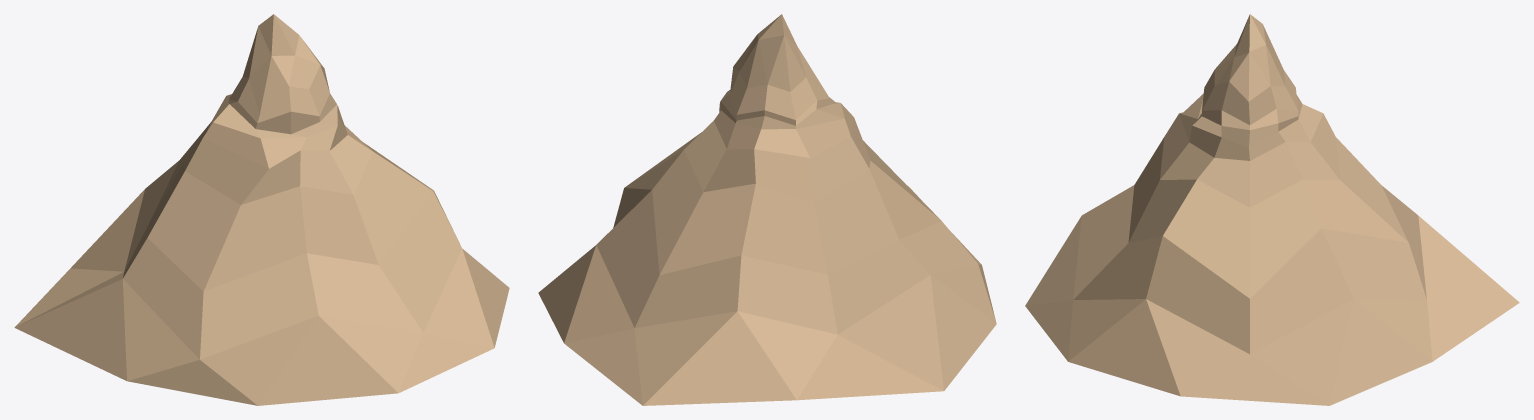
File: Mountain2.glb
3 renders of one model, left to right at view 1: azimuth 30°, elevation 25°; view 2: azimuth 150°, elevation 25°; view 3: azimuth 270°, elevation 25°, orthographic. The views are drawn at different scales.
Visible parts, largest first — view 1: Icosphere; view 2: Icosphere; view 3: Icosphere.
Part boxes in pixels (x1=…): Icosphere: x1=14, y1=14, x2=509, y2=405; Icosphere: x1=538, y1=14, x2=996, y2=405; Icosphere: x1=1025, y1=14, x2=1519, y2=405.
Bounding box in the file's own units: 20.63 × 14.29 × 21.78.
